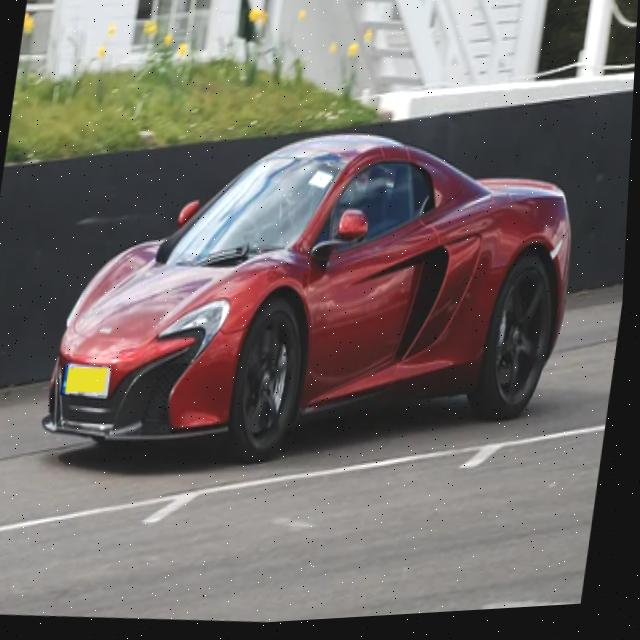LicensePlate: (67, 366, 112, 398)
